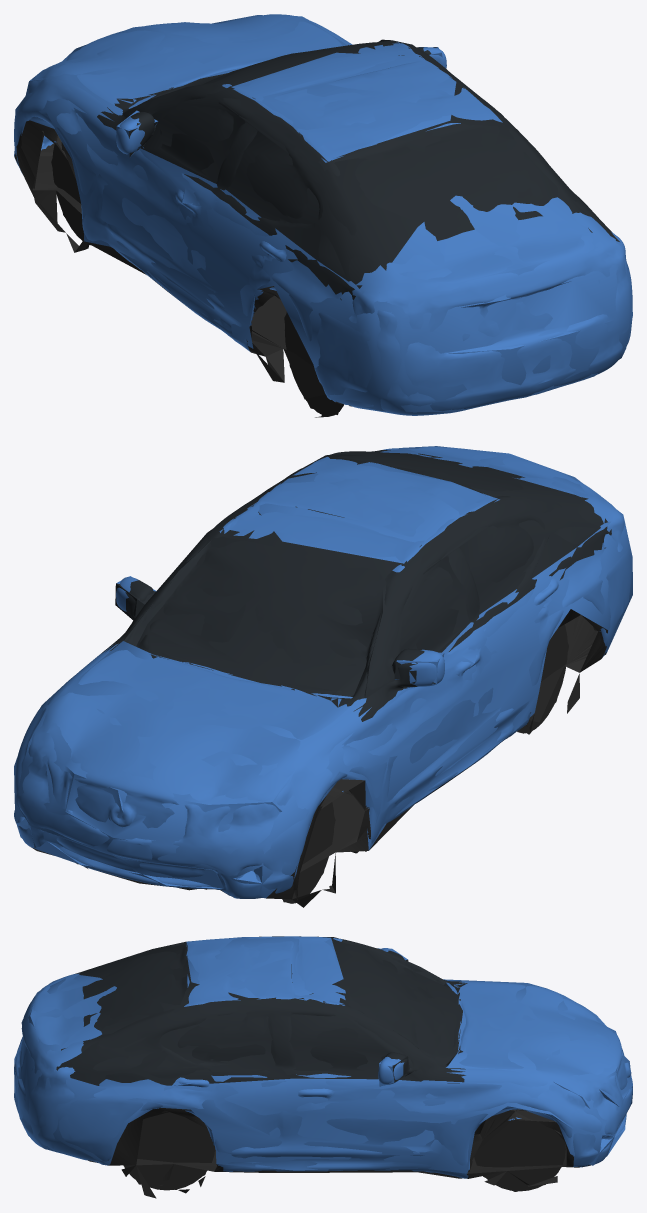
The model's file is infiniti-m45.glb.
3 views of the same model, one above another, from view 1: azimuth 30°, elevation 25°; view 2: azimuth 150°, elevation 25°; view 3: azimuth 270°, elevation 25° (orthographic). The views are drawn at different scales.
Parts seen in each view (by area): view 1: body, far; view 2: body, far; view 3: body, far.
Part boxes in pixels (<box>): body: <box>14,14,632,417</box>; far: <box>14,15,632,416</box>; body: <box>14,446,631,907</box>; far: <box>14,446,632,906</box>; body: <box>14,936,632,1198</box>; far: <box>14,936,632,1191</box>.
Bounding box in the file's own units: 2.33 × 1.7 × 5.08.
